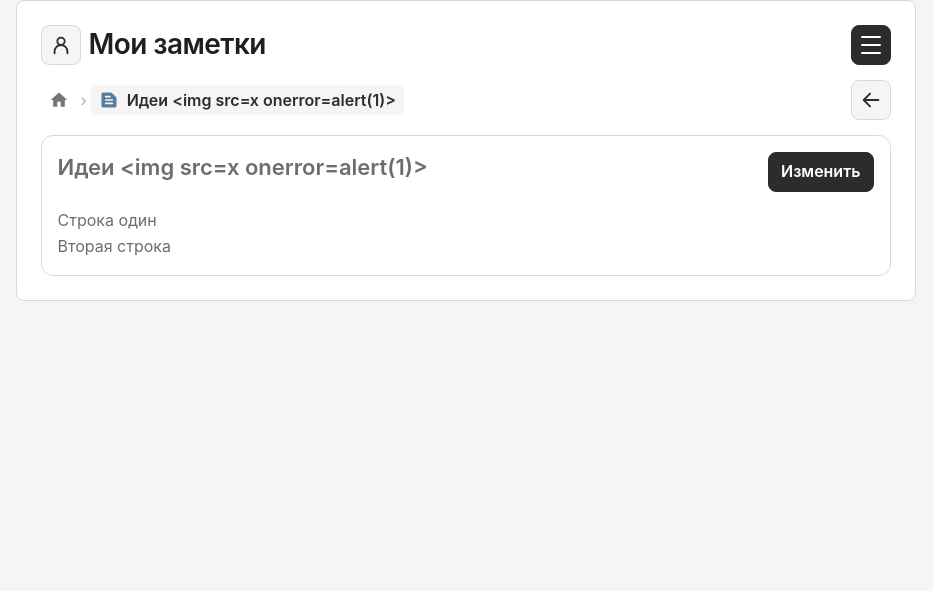
Test: keeps cancelled note drafts and saves only explicit edits
Click the button with class "btn-note-edit" at [821, 172], box [768,152,874,192]
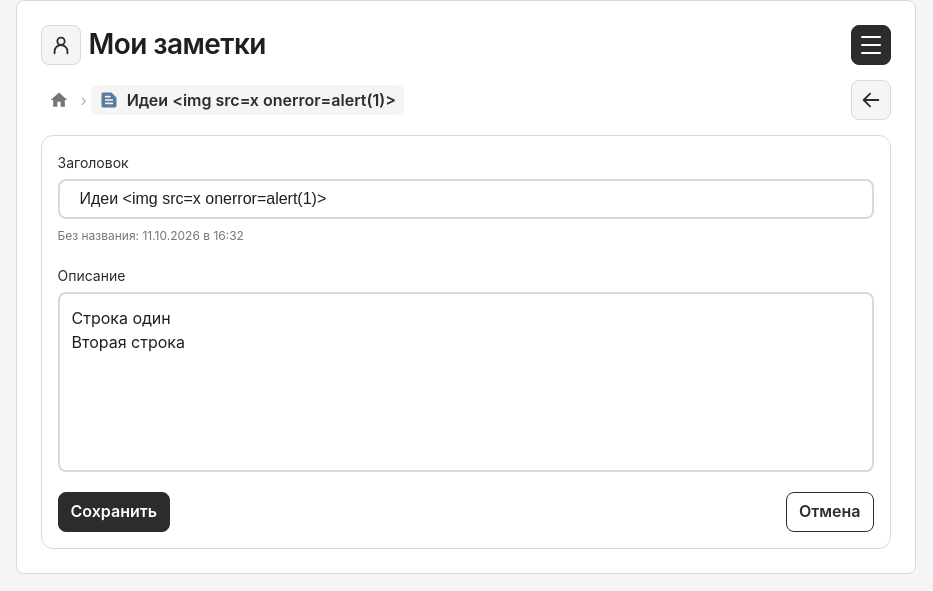
Replace the text in the text box labelled "Описание" with "Черновик" at [466, 382], box [58,292,874,472]
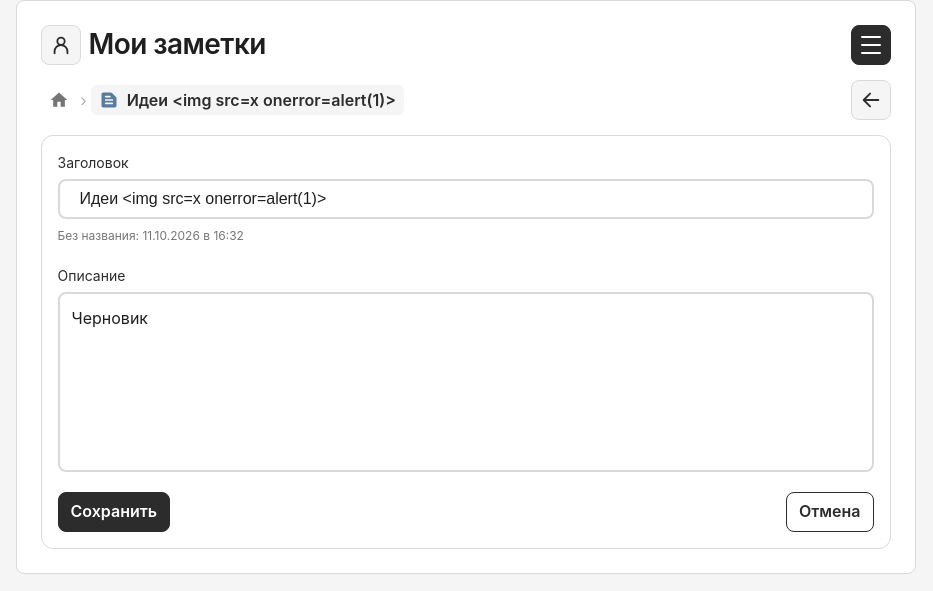
Click the button with class "btn-note-cancel" at [830, 512], box [786,492,874,532]
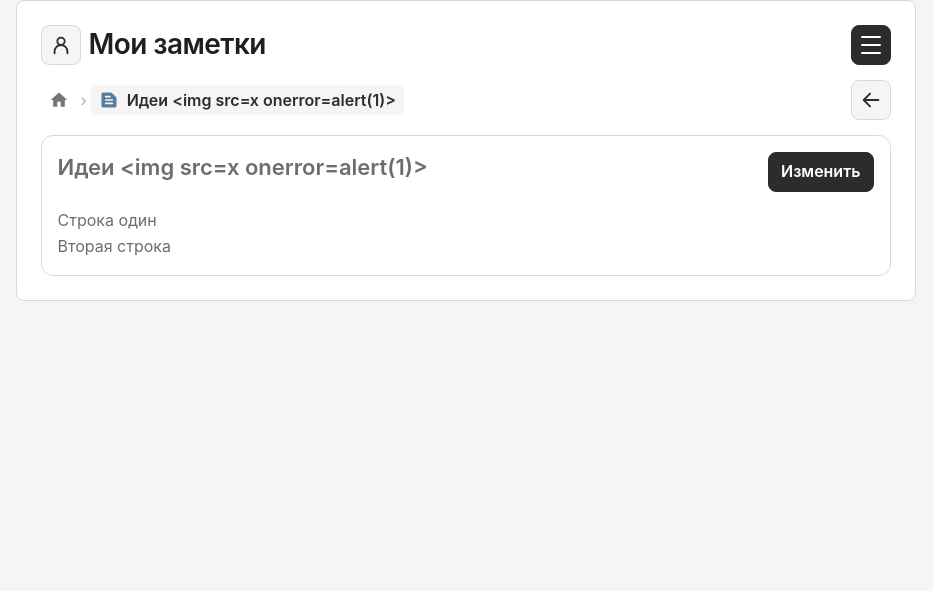
Click the button with class "btn-note-edit" at [821, 172], box [768,152,874,192]
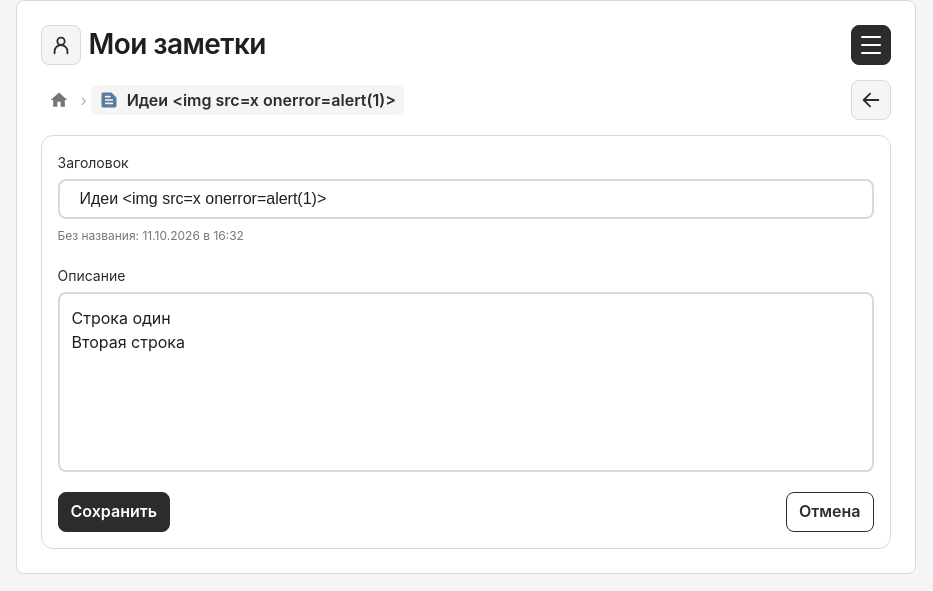
Replace the text in the text box labelled "Описание" with "Сохранить" at [466, 382], box [58,292,874,472]
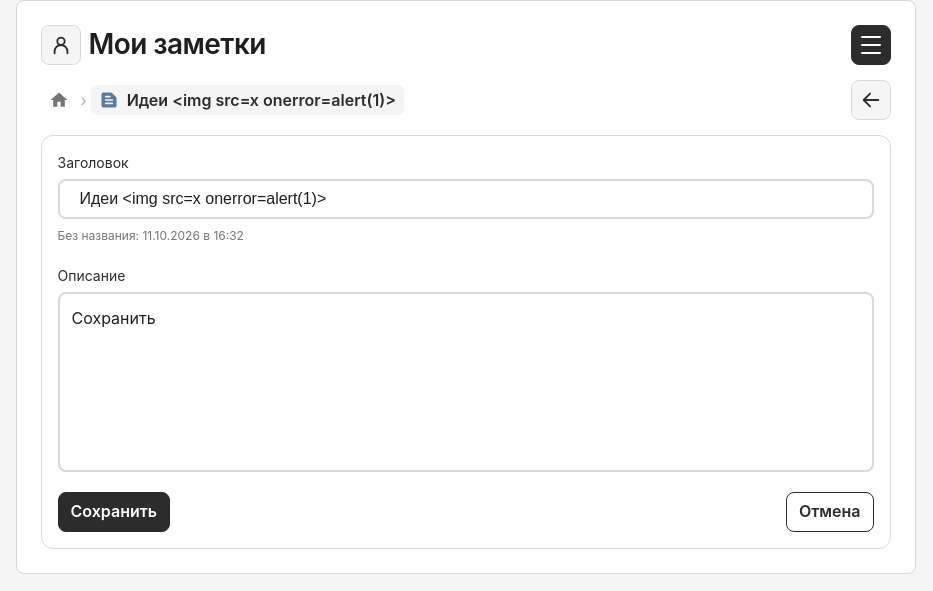
Submit the form, box [58,152,874,532]
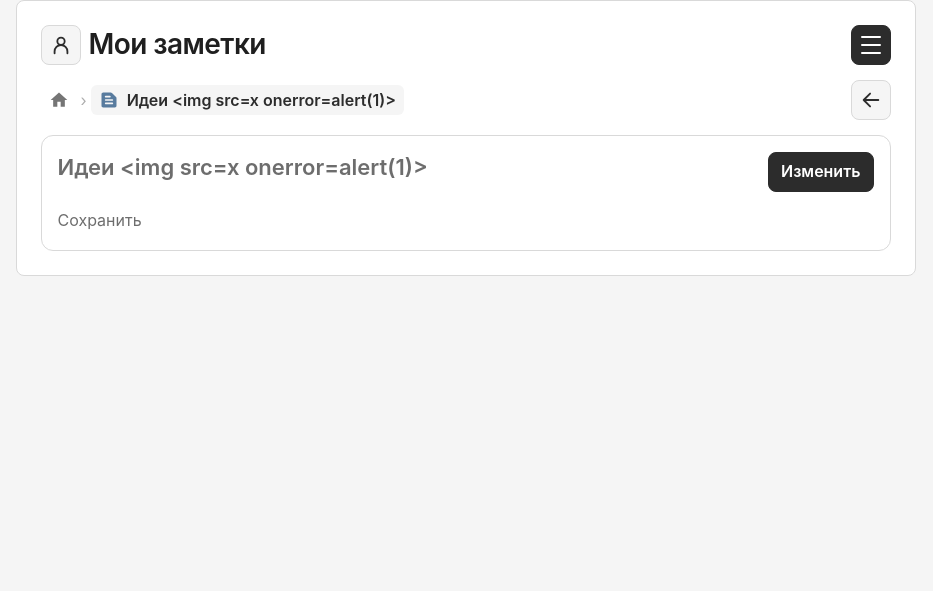
Result: the text "Сохранить" is shown at [58,210,142,230]
Result: the element with class "note-reader" is shown at [58,152,874,234]
